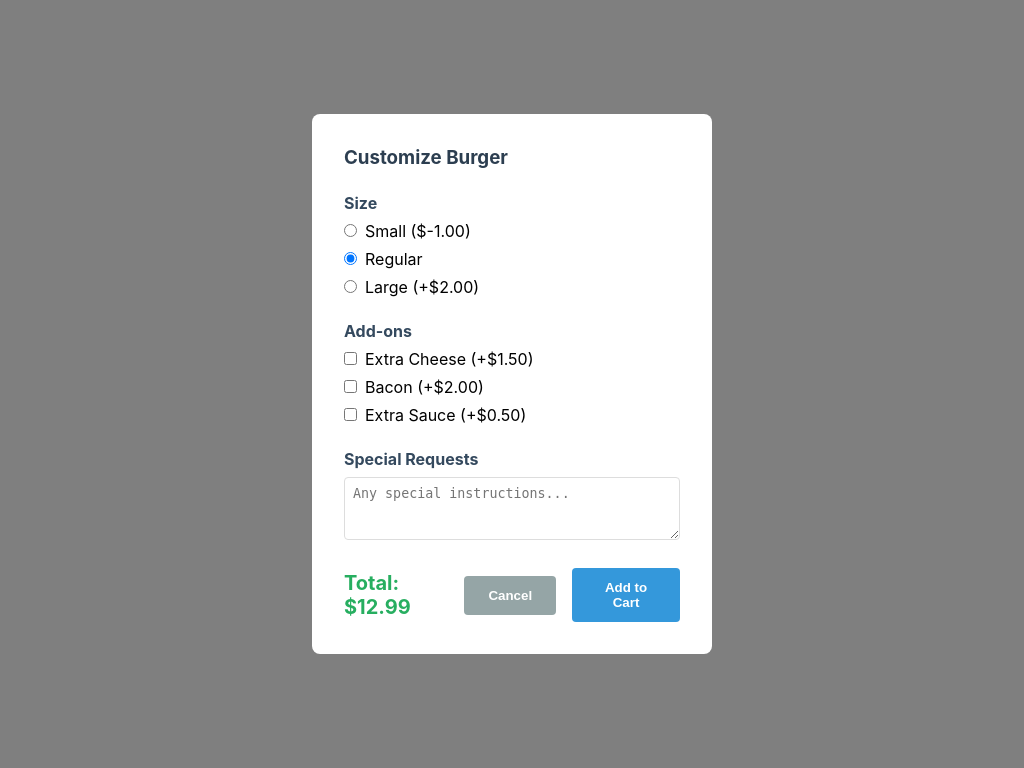
Test case: OrderCustomization › calculates price with size change
Click the radio button labelled "Large (+$2.00)". click: coordinates (350, 286)
box: [344, 280, 357, 293]
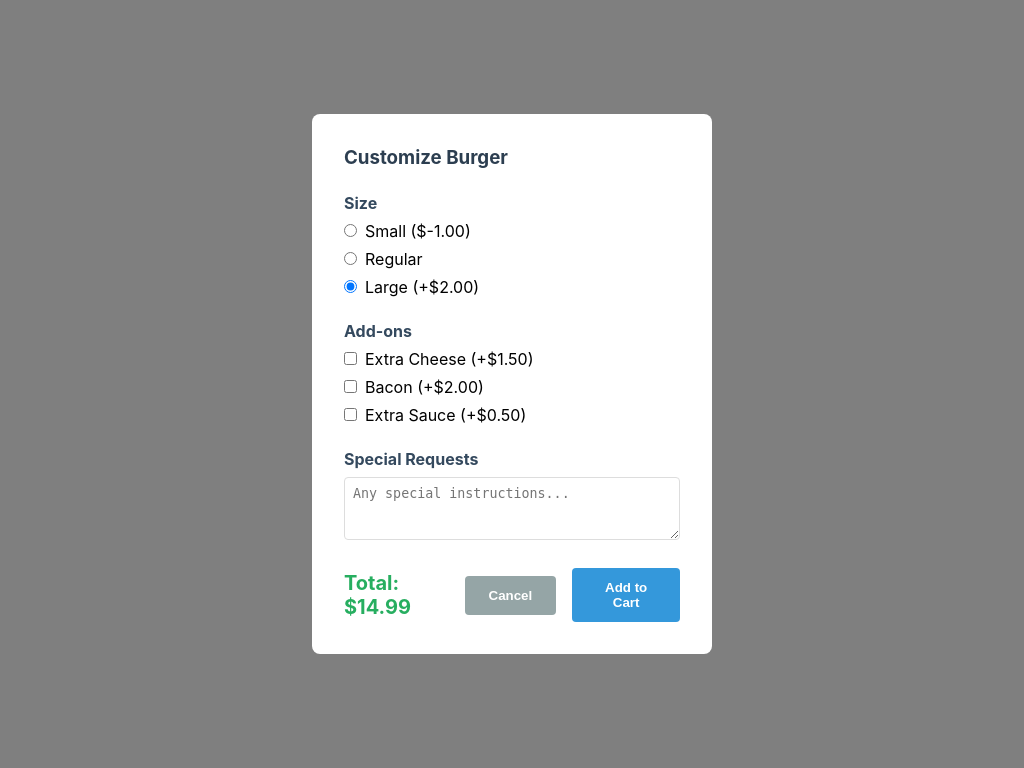
Expected: the text "Total: $14.99" is shown, [344, 571, 411, 619]
